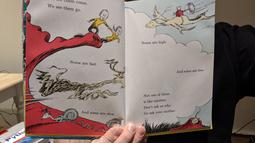text block: (139, 90, 184, 116), (45, 1, 92, 16), (77, 106, 117, 119), (66, 57, 100, 69), (174, 64, 206, 75), (137, 39, 170, 47)
